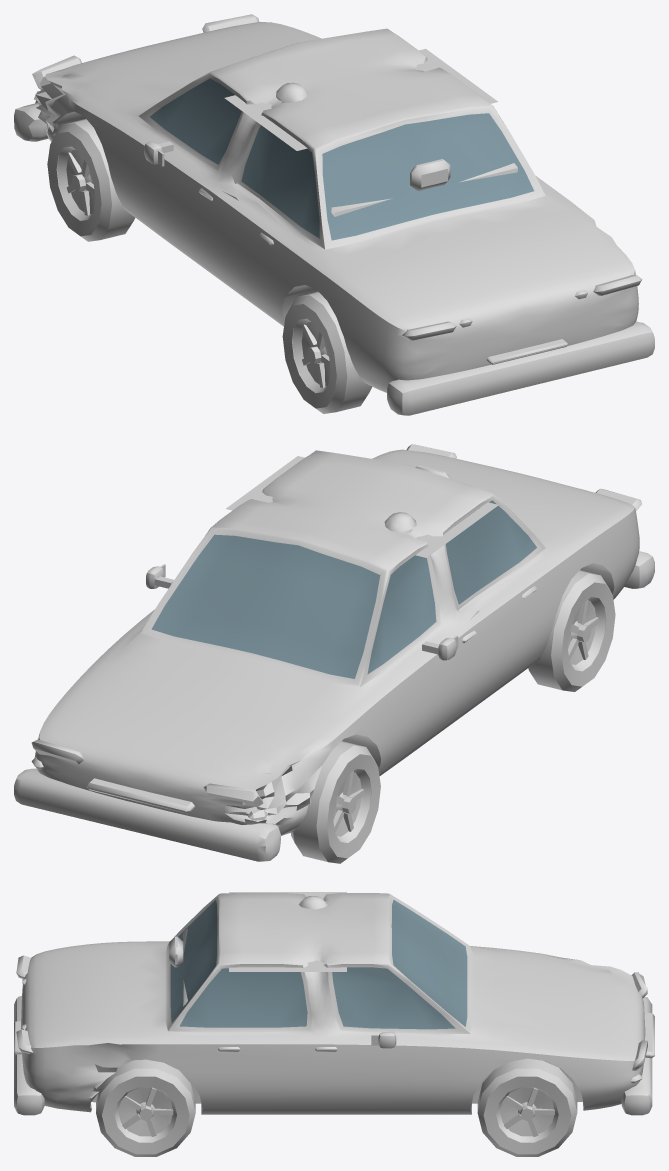
The model's file is car_sedan_dmg1.glb.
3 views of the same model, one above another, from view 1: azimuth 30°, elevation 25°; view 2: azimuth 150°, elevation 25°; view 3: azimuth 270°, elevation 25° (orthographic). The views are drawn at different scales.
Parts seen in each view (by area): view 1: car_sedan_dmg1; view 2: car_sedan_dmg1; view 3: car_sedan_dmg1.
Part boxes in pixels (x1,y1,x2,y2): car_sedan_dmg1: (14,14,654,415); car_sedan_dmg1: (14,444,654,863); car_sedan_dmg1: (14,892,654,1156).
Size of the model in its own units: 2.06 by 1.48 by 4.62.
